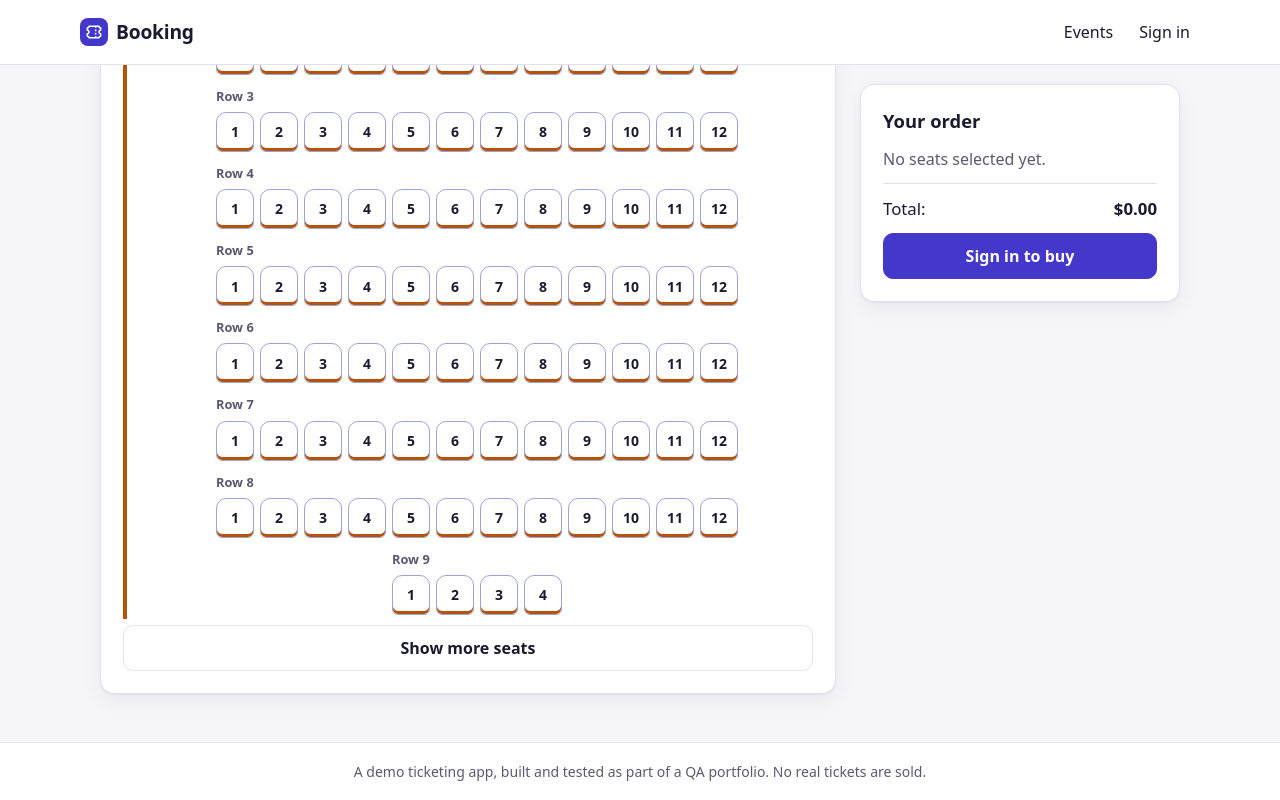
it: EventPage › loads more seats on request
The image size is (1280, 800).
(page scrolled)
Click the button "Show more seats" at coordinates (468, 648), box top-left (123, 625), bottom-right (813, 671)
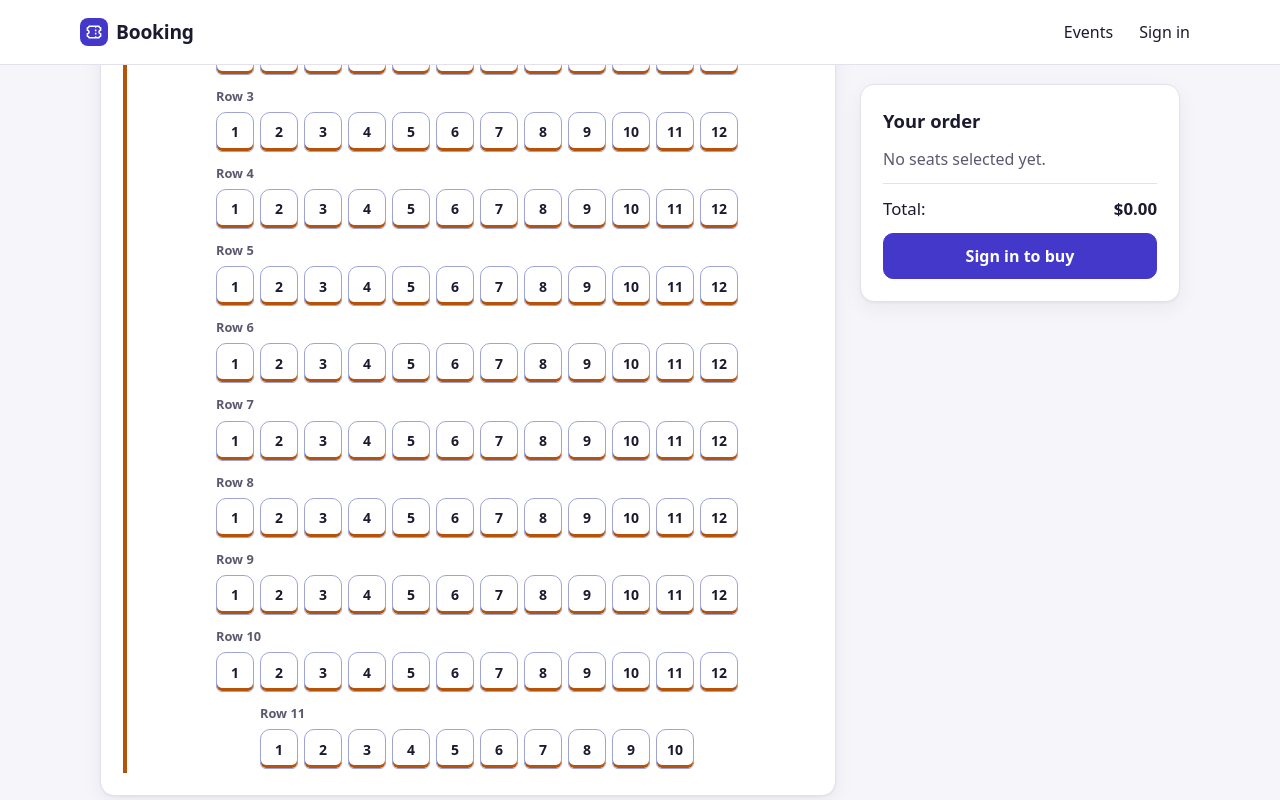
expect the button "Show more seats" is gone: met
